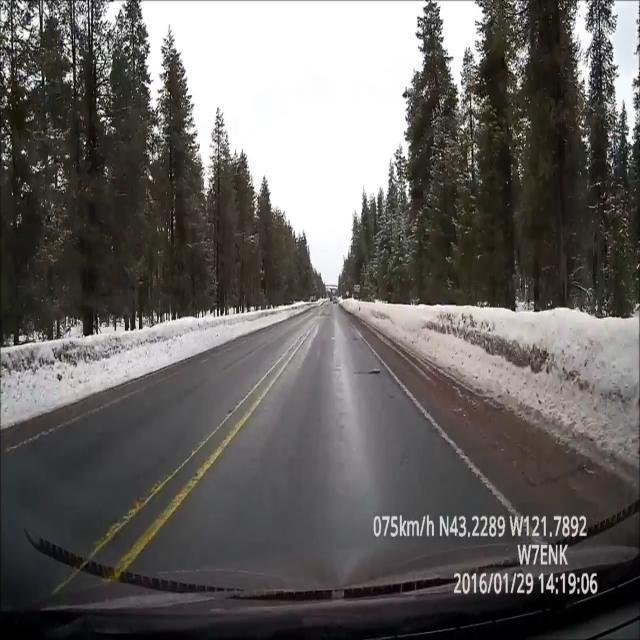pothole: (357, 362, 383, 382)
